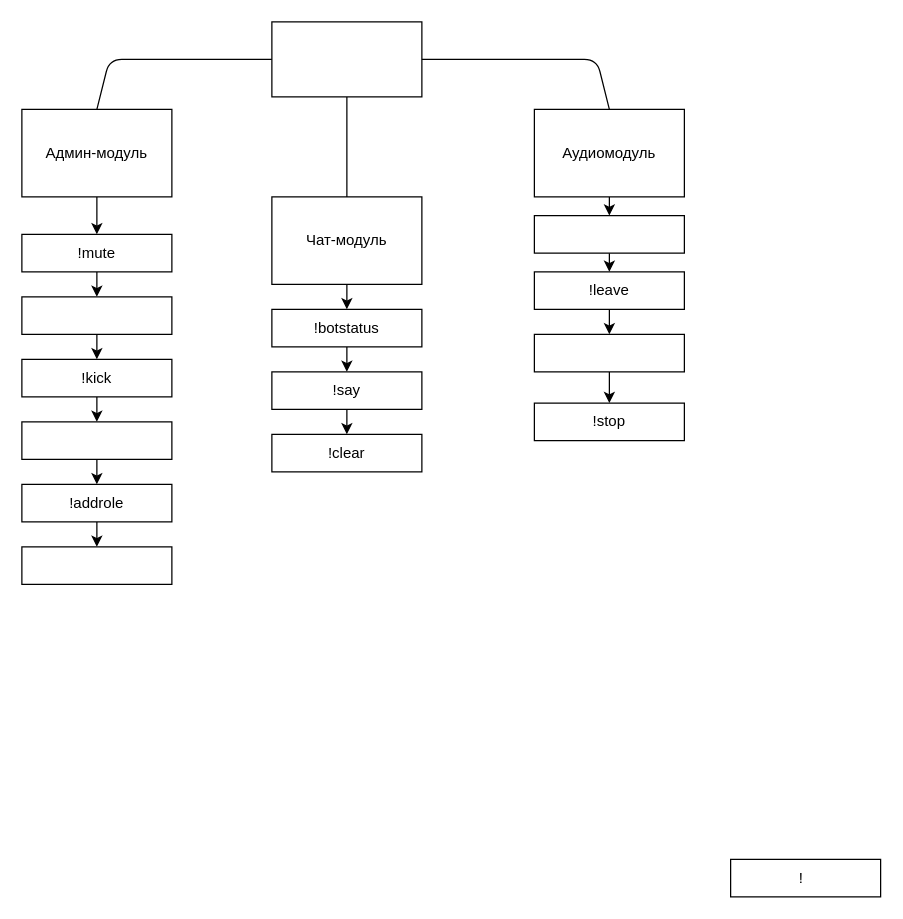
Image size: 903x919. Some labels were removed from this diagram. The centre of each missing label's shape, as x and y in pixels:
!ban: (96,440)
!delrole: (96,565)
!join: (608,233)
!play: (608,352)
!unmute: (96,315)
Программа: (346,59)
